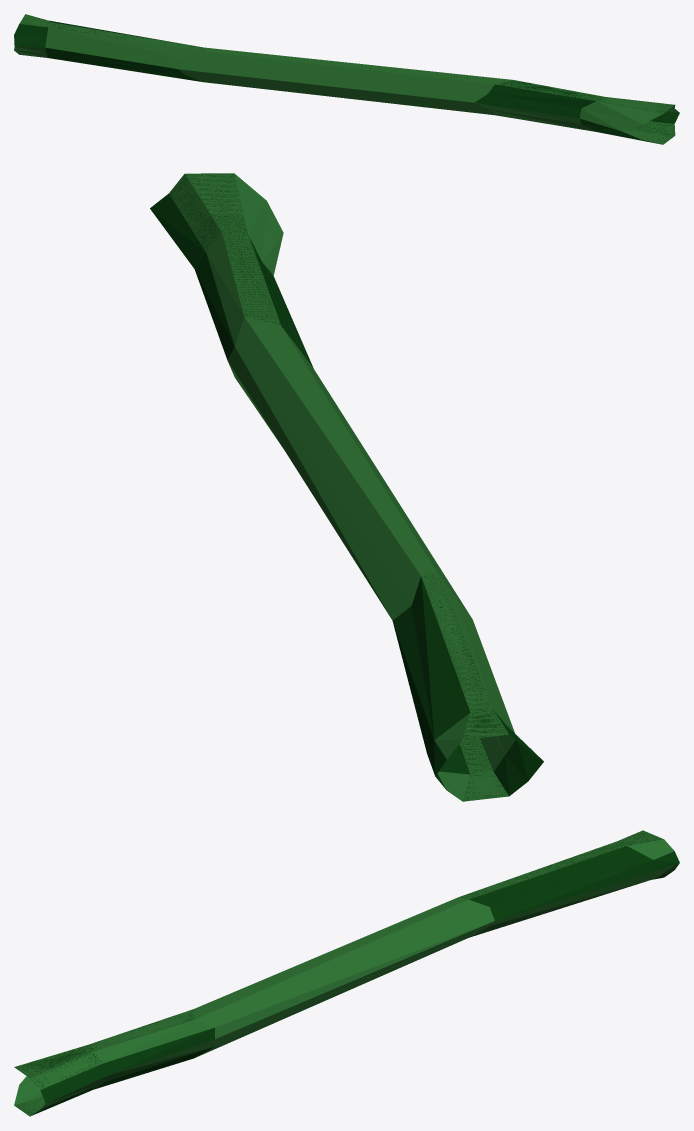
File: inv_hollow_reed.obj
3 views of the same model, one above another, from view 1: azimuth 30°, elevation 25°; view 2: azimuth 150°, elevation 25°; view 3: azimuth 270°, elevation 25° (orthographic). The views are drawn at different scales.
Bounding box in the file's own units: 0.9141 × 0.0625 × 0.9844.
